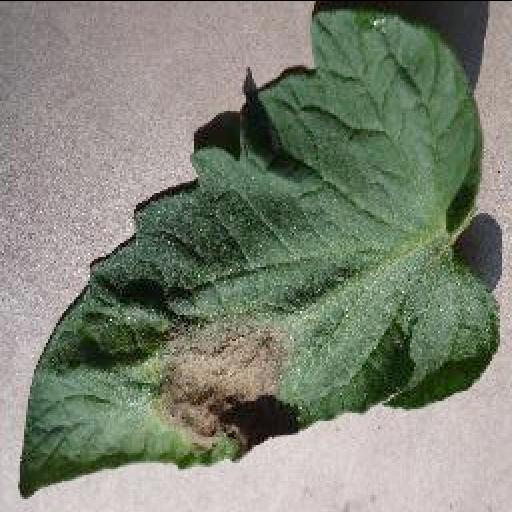disease_tomato: (14, 3, 500, 501)
